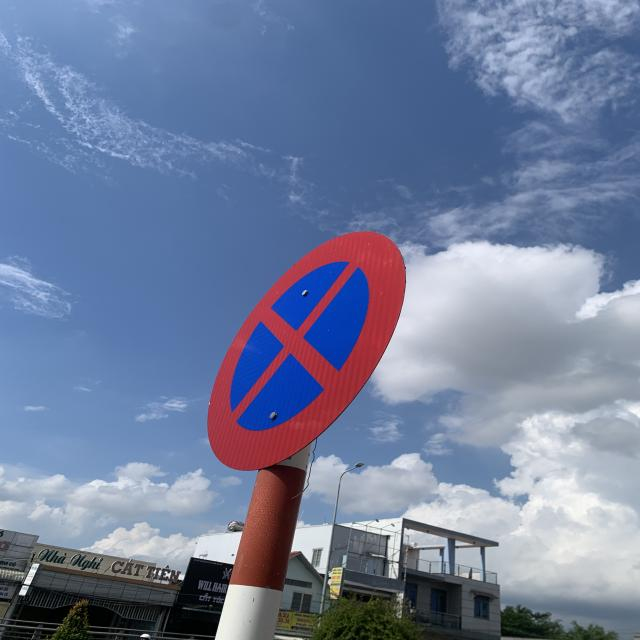Cam_Dung_Va_Dau_Xe: (205, 230, 407, 472)
